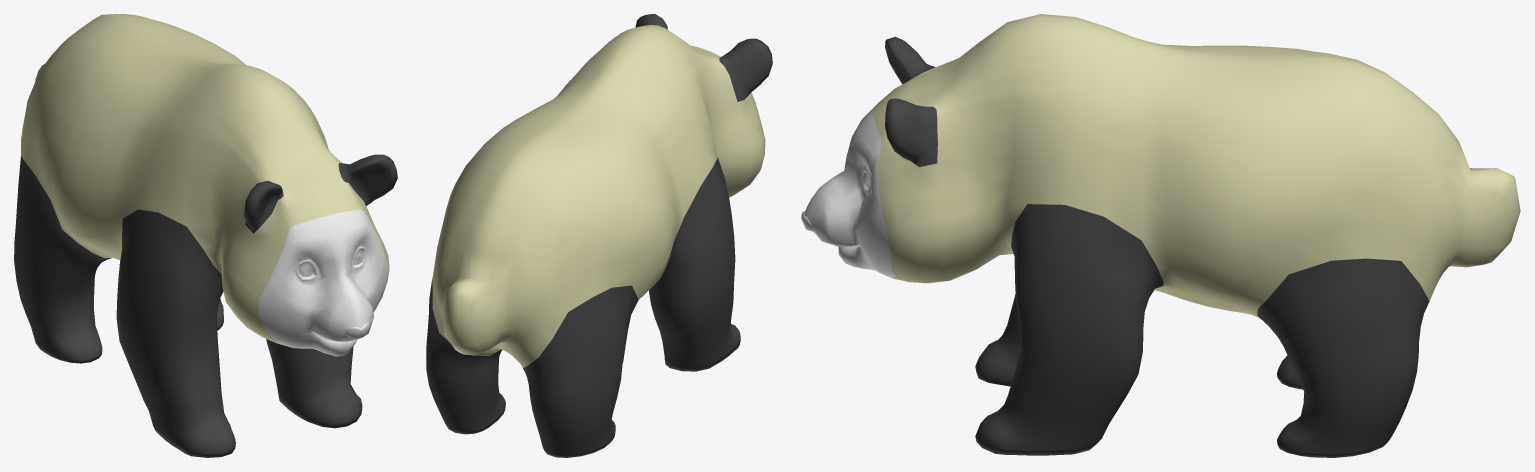
Rendered from CartoonPanda_CheeksUp.fbx.
The picture shows the model from 3 angles, left to right: view 1: azimuth 30°, elevation 25°; view 2: azimuth 150°, elevation 25°; view 3: azimuth 270°, elevation 25°; orthographic projection. The views are drawn at different scales.
Visible parts, largest first — view 1: polySurface3; view 2: polySurface3; view 3: polySurface3.
Part boxes in pixels (box(x1,y1,x2,y2)): polySurface3: box(14, 14, 397, 457); polySurface3: box(426, 14, 772, 457); polySurface3: box(801, 14, 1520, 457).
Size of the model in its own units: 2.47 by 3.77 by 6.25.
